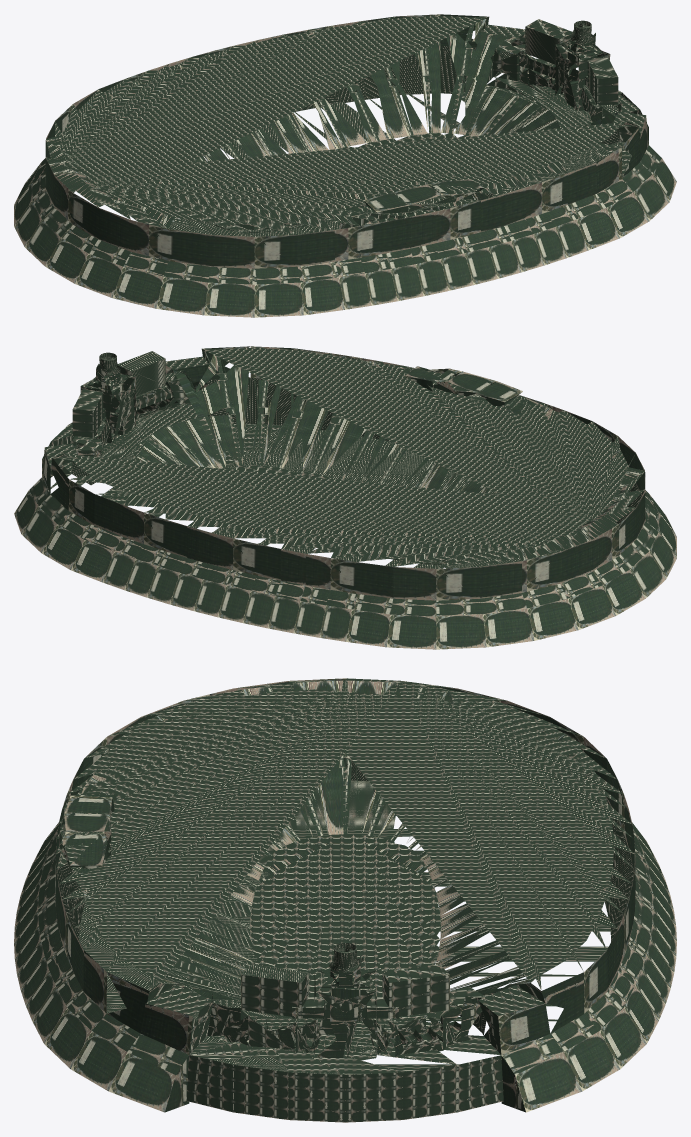
File: coliseum_test.fbx
The picture shows the model from 3 angles, top to bottom: view 1: azimuth 30°, elevation 25°; view 2: azimuth 150°, elevation 25°; view 3: azimuth 270°, elevation 25°; orthographic projection. The views are drawn at different scales.
Visible parts, largest first — view 1: Coliseum; view 2: Coliseum; view 3: Coliseum.
Boxes of the visible parts, x1,y1,x2,y2 form: Coliseum: (14, 14, 676, 317); Coliseum: (14, 346, 676, 649); Coliseum: (14, 678, 676, 1122).
Size of the model in its own units: 349 by 265 by 69.9.
1 material, 1 textured.
